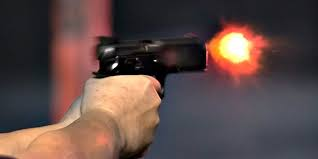Gun: (96, 38, 222, 78)
